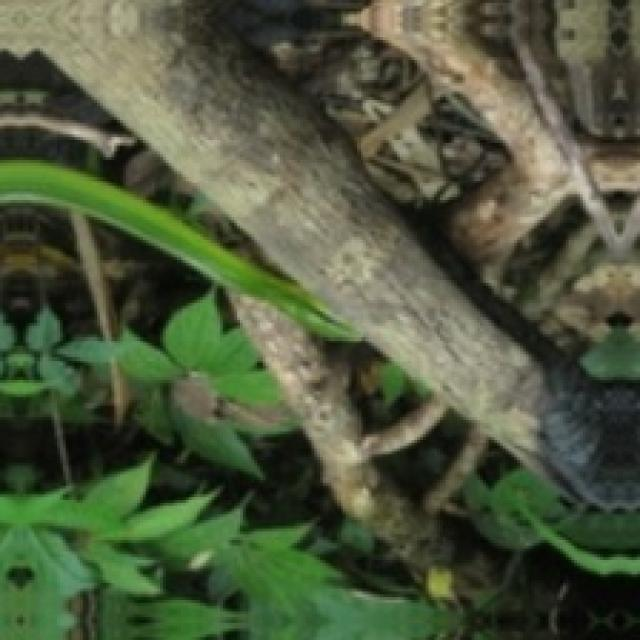red-tailed green ratsnake: (0, 162, 354, 339)
